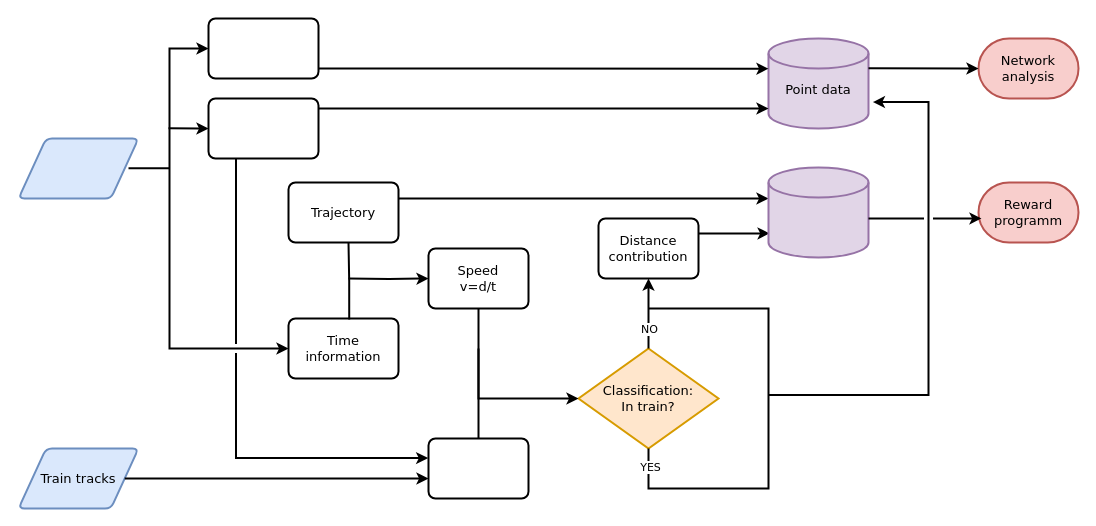
This 1096x526 diagram has some shape labels left out. The shapes that lost their labels are listed below. From the top down, each one's centre as x and y in pixels, then its label:
point 263,48: Network information
point 263,128: Position
point 78,168: User data
point 818,212: Trajectory data
point 478,468: Orthogonal distance
